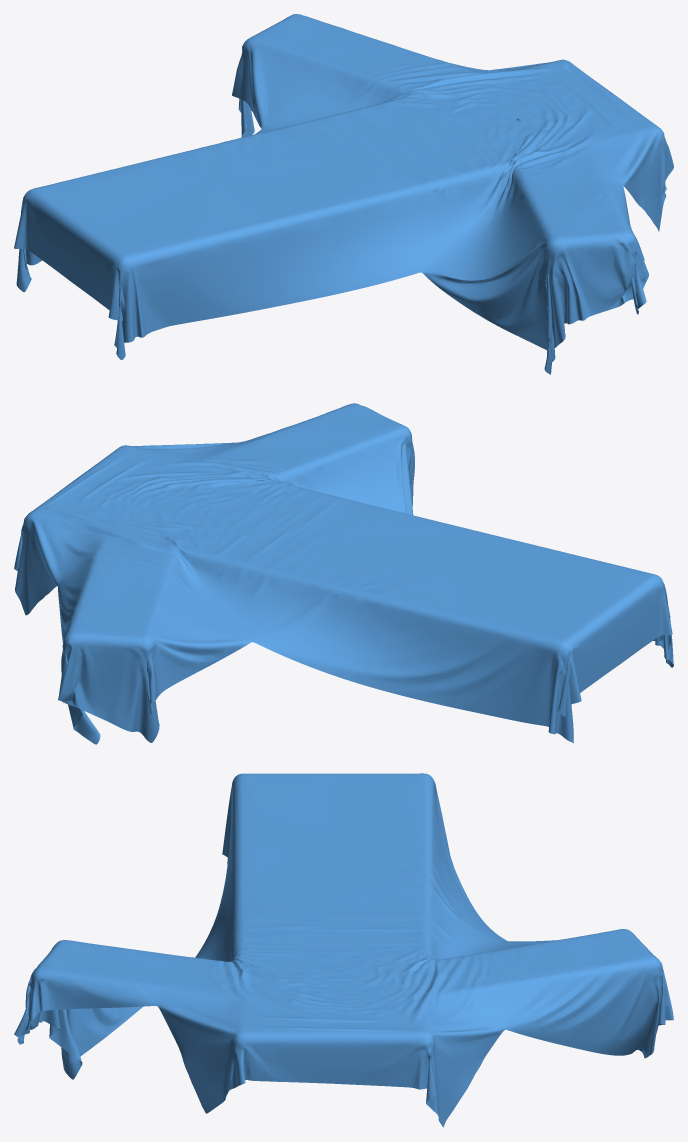
File: bed_cover.fbx
The picture shows the model from 3 angles, top to bottom: view 1: azimuth 30°, elevation 25°; view 2: azimuth 150°, elevation 25°; view 3: azimuth 270°, elevation 25°; orthographic projection.
Parts seen in each view (by area): view 1: cloth_sheet; view 2: cloth_sheet; view 3: cloth_sheet.
Part boxes in pixels (box(x1,y1,x2,y2)): cloth_sheet: box(14, 14, 673, 374); cloth_sheet: box(14, 403, 673, 744); cloth_sheet: box(14, 773, 673, 1127).
Size of the model in its own units: 202 by 48.75 by 204.
